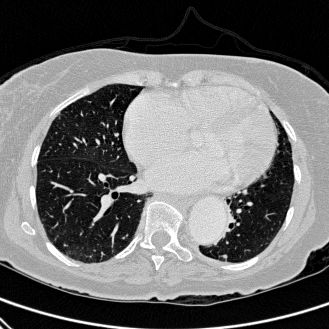nodule: (223, 254, 227, 258)
